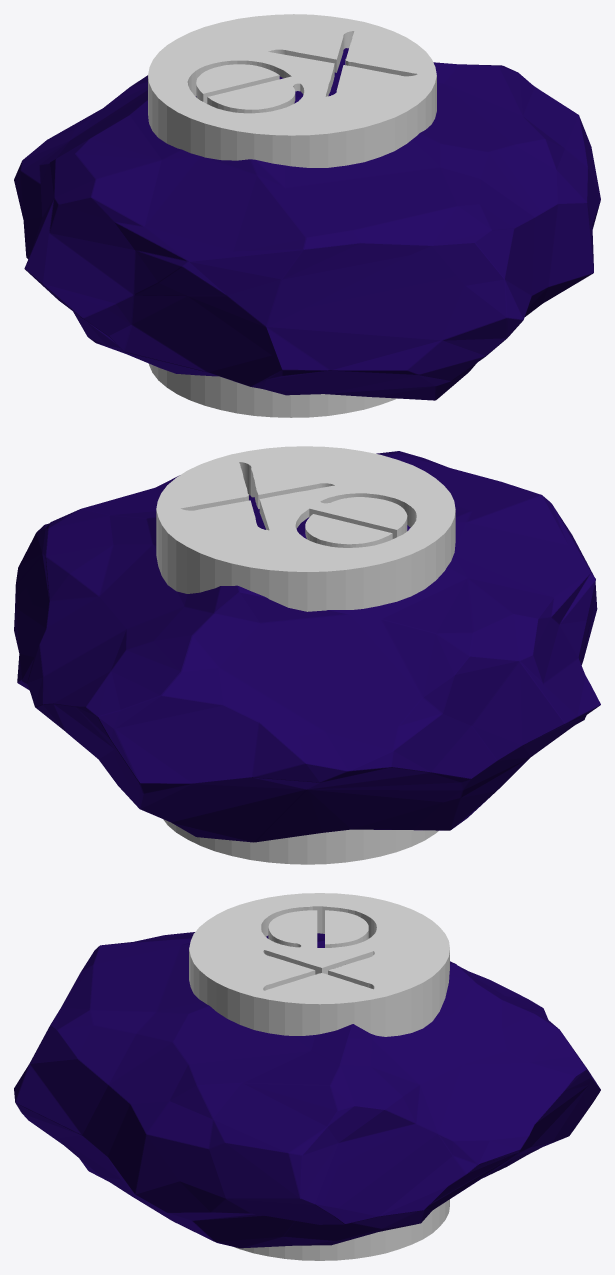
The model's file is express.glb.
The picture shows the model from 3 angles, top to bottom: view 1: azimuth 30°, elevation 25°; view 2: azimuth 150°, elevation 25°; view 3: azimuth 270°, elevation 25°; orthographic projection. The views are drawn at different scales.
Visible parts, largest first — view 1: Cube.007, Curve.001; view 2: Cube.007, Curve.001; view 3: Cube.007, Curve.001.
Part boxes in pixels (<box>): Cube.007: <box>14,48,600,400</box>; Curve.001: <box>148,14,436,417</box>; Cube.007: <box>14,451,600,842</box>; Curve.001: <box>156,446,455,864</box>; Cube.007: <box>14,932,600,1248</box>; Curve.001: <box>189,893,449,1260</box>.
Size of the model in its own units: 2 by 0.9843 by 2.04.
